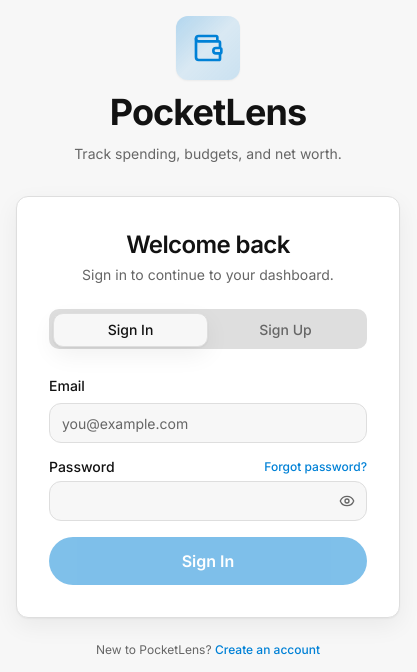
Test: <LoginPage> › disables submit until email and password are entered (sign in accepts any password)
The width and height of the screenshot is (417, 672).
Expected: the button "Sign In" is disabled, [49,537,367,585]
Type "demo@pocketlens.app" into the field labelled "Email" at (208, 423), box [49,403,367,443]
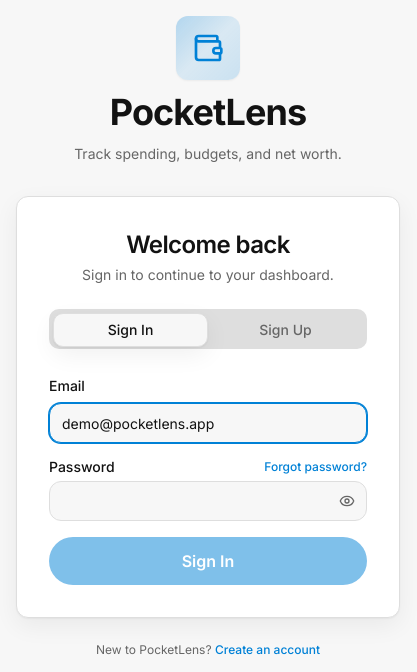
Expected: the button "Sign In" is disabled, [49,537,367,585]
Note: Existing accounts may have a pre-policy password, so sign in must not enforce length.
Type "old" into the password field labelled "Password" at (208, 501), box [49,481,367,521]
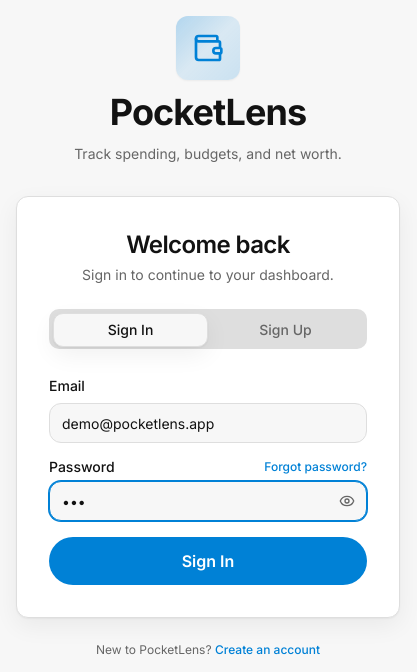
Result: the button "Sign In" is enabled at [49,537,367,585]
